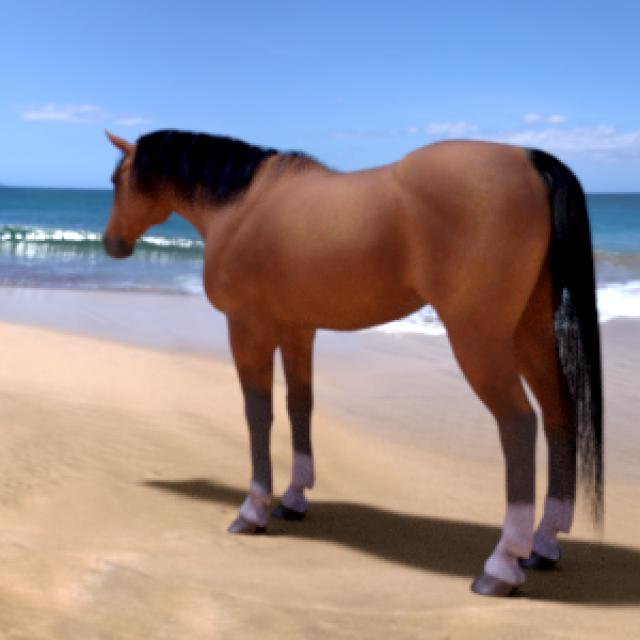horse: (106, 130, 602, 597)
